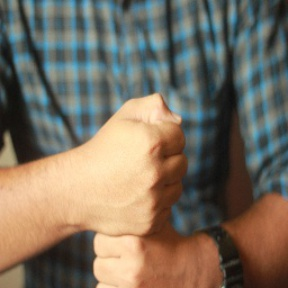G: (80, 83, 194, 288)
